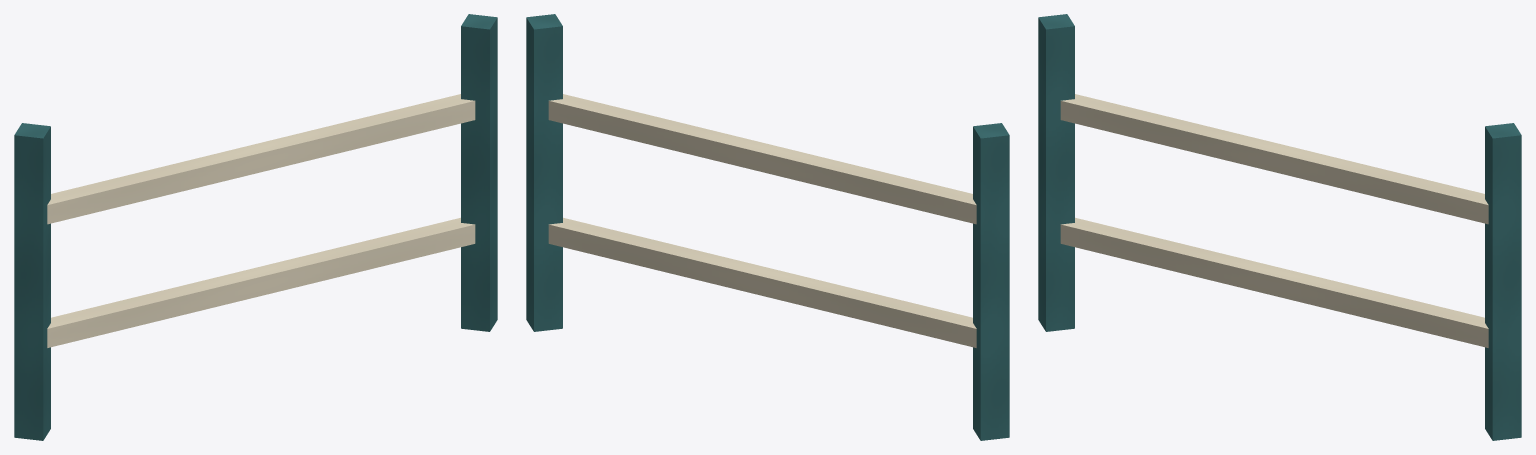
Rendered from atlas100-porcelain-util04.lod2.glb.
3 renders of one model, left to right at view 1: azimuth 30°, elevation 25°; view 2: azimuth 150°, elevation 25°; view 3: azimuth 330°, elevation 25°, orthographic.
Parts seen in each view (by area): view 1: atlas100-porcelain-util04:part-004, atlas100-porcelain-util04:part-005, atlas100-porcelain-util04:part-000, atlas100-porcelain-util04:part-002; view 2: atlas100-porcelain-util04:part-004, atlas100-porcelain-util04:part-005, atlas100-porcelain-util04:part-000, atlas100-porcelain-util04:part-002; view 3: atlas100-porcelain-util04:part-004, atlas100-porcelain-util04:part-005, atlas100-porcelain-util04:part-002, atlas100-porcelain-util04:part-000.
Part boxes in pixels (bbox=[...]): atlas100-porcelain-util04:part-004: bbox=[47, 217, 475, 347]; atlas100-porcelain-util04:part-005: bbox=[47, 94, 475, 224]; atlas100-porcelain-util04:part-000: bbox=[14, 123, 50, 440]; atlas100-porcelain-util04:part-002: bbox=[461, 14, 497, 331]; atlas100-porcelain-util04:part-004: bbox=[548, 217, 976, 347]; atlas100-porcelain-util04:part-005: bbox=[548, 94, 976, 224]; atlas100-porcelain-util04:part-000: bbox=[973, 123, 1009, 440]; atlas100-porcelain-util04:part-002: bbox=[526, 14, 562, 331]; atlas100-porcelain-util04:part-004: bbox=[1060, 217, 1488, 347]; atlas100-porcelain-util04:part-005: bbox=[1060, 94, 1488, 224]; atlas100-porcelain-util04:part-002: bbox=[1485, 123, 1521, 440]; atlas100-porcelain-util04:part-000: bbox=[1038, 14, 1074, 331].
Bounding box in the file's own units: 1.88 × 1.13 × 0.1432.
Materials: 2 (2 with a texture image).
